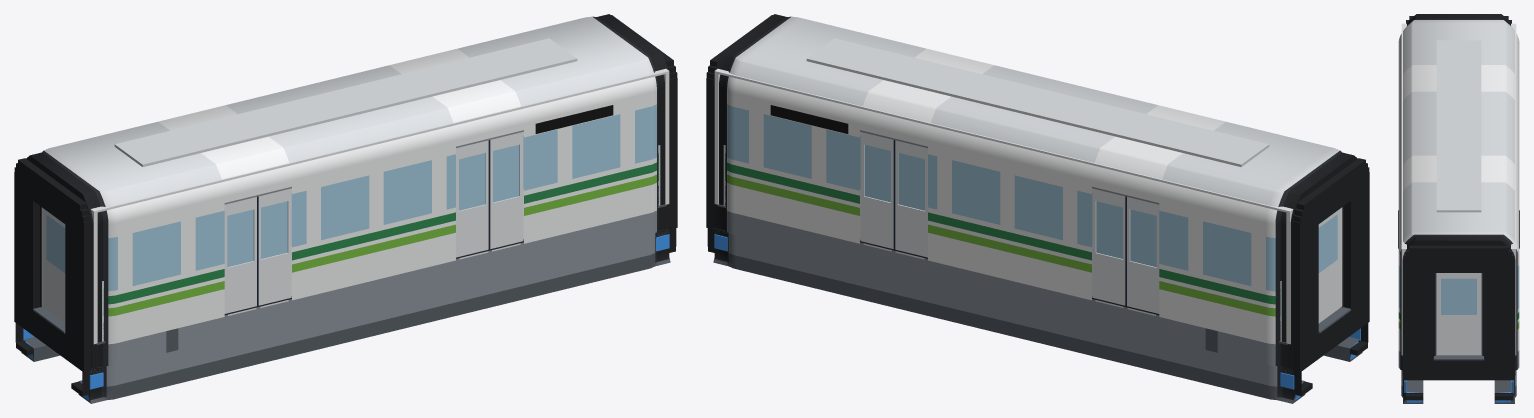
The model's file is ecobee_car.obj.
The picture shows the model from 3 angles, left to right: view 1: azimuth 30°, elevation 25°; view 2: azimuth 150°, elevation 25°; view 3: azimuth 270°, elevation 25°; orthographic projection. The views are drawn at different scales.
Parts seen in each view (by area): view 1: SHELL, SHELL_roof, SHELL_diaphragm, EXTERNAL_DOOR_4_CG_DR1_TOGGLE_TL_-0.64_X, EXTERNAL_DOOR_10_CG_DR2_TOGGLE_TL_-0.64_X, EXTERNAL_DOOR_5_CG_DR1_TOGGLE_TL_0.64_X, EXTERNAL_DOOR_11_CG_DR2_TOGGLE_TL_0.64_X, CONNECTING_DOOR_1_CG_CR_TOGGLE_TL_0.98_Z, SHELL_ceiling, SHELL_end, SHELL_sign; view 2: SHELL, SHELL_roof, SHELL_diaphragm, EXTERNAL_DOOR_7_CG_DL1_TOGGLE_TL_-0.64_X, EXTERNAL_DOOR_13_CG_DL2_TOGGLE_TL_-0.64_X, EXTERNAL_DOOR_8_CG_DL1_TOGGLE_TL_0.64_X, EXTERNAL_DOOR_14_CG_DL2_TOGGLE_TL_0.64_X, CONNECTING_DOOR_1_CG_CR_TOGGLE_TL_0.98_Z, SHELL_ceiling, SHELL_end, SHELL_sign; view 3: SHELL, SHELL_diaphragm, SHELL_roof, CONNECTING_DOOR_2_CG_CF_TOGGLE_TL_0.98_Z, SHELL_ceiling, SHELL_end, SHELL_floor, SHELL_gangway, BOGEY_FRONT.
Boxes of the visible parts, left/top/right/bottom form: SHELL: left=21, top=14, right=670, bottom=403; SHELL_roof: left=114, top=38, right=577, bottom=166; SHELL_diaphragm: left=14, top=15, right=677, bottom=396; EXTERNAL_DOOR_4_CG_DR1_TOGGLE_TL_-0.64_X: left=224, top=196, right=258, bottom=313; EXTERNAL_DOOR_10_CG_DR2_TOGGLE_TL_-0.64_X: left=456, top=140, right=490, bottom=257; EXTERNAL_DOOR_5_CG_DR1_TOGGLE_TL_0.64_X: left=258, top=188, right=291, bottom=305; EXTERNAL_DOOR_11_CG_DR2_TOGGLE_TL_0.64_X: left=490, top=132, right=523, bottom=248; CONNECTING_DOOR_1_CG_CR_TOGGLE_TL_0.98_Z: left=43, top=209, right=65, bottom=323; SHELL_ceiling: left=94, top=69, right=666, bottom=212; SHELL_end: left=41, top=68, right=669, bottom=344; SHELL_sign: left=535, top=105, right=613, bottom=133; SHELL: left=713, top=14, right=1362, bottom=403; SHELL_roof: left=806, top=38, right=1269, bottom=166; SHELL_diaphragm: left=706, top=15, right=1369, bottom=396; EXTERNAL_DOOR_7_CG_DL1_TOGGLE_TL_-0.64_X: left=1125, top=196, right=1159, bottom=313; EXTERNAL_DOOR_13_CG_DL2_TOGGLE_TL_-0.64_X: left=893, top=140, right=927, bottom=257; EXTERNAL_DOOR_8_CG_DL1_TOGGLE_TL_0.64_X: left=1092, top=188, right=1125, bottom=305; EXTERNAL_DOOR_14_CG_DL2_TOGGLE_TL_0.64_X: left=860, top=132, right=893, bottom=248; CONNECTING_DOOR_1_CG_CR_TOGGLE_TL_0.98_Z: left=1318, top=209, right=1340, bottom=323; SHELL_ceiling: left=717, top=69, right=1289, bottom=212; SHELL_end: left=714, top=68, right=1342, bottom=344; SHELL_sign: left=770, top=105, right=848, bottom=133; SHELL: left=1398, top=14, right=1519, bottom=403; SHELL_diaphragm: left=1403, top=16, right=1514, bottom=400; SHELL_roof: left=1436, top=40, right=1481, bottom=212; CONNECTING_DOOR_2_CG_CF_TOGGLE_TL_0.98_Z: left=1436, top=273, right=1481, bottom=355; SHELL_ceiling: left=1401, top=24, right=1516, bottom=247; SHELL_end: left=1401, top=23, right=1516, bottom=355; SHELL_floor: left=1435, top=273, right=1482, bottom=353; SHELL_gangway: left=1434, top=353, right=1483, bottom=359; BOGEY_FRONT: left=1404, top=380, right=1513, bottom=402.
Bounding box in the file's own units: 12.32 × 4.08 × 2.72.
Materials: 1 (1 with a texture image).
